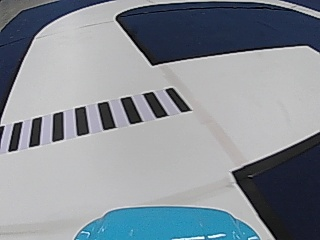CrossWalk: (5, 87, 190, 149)
